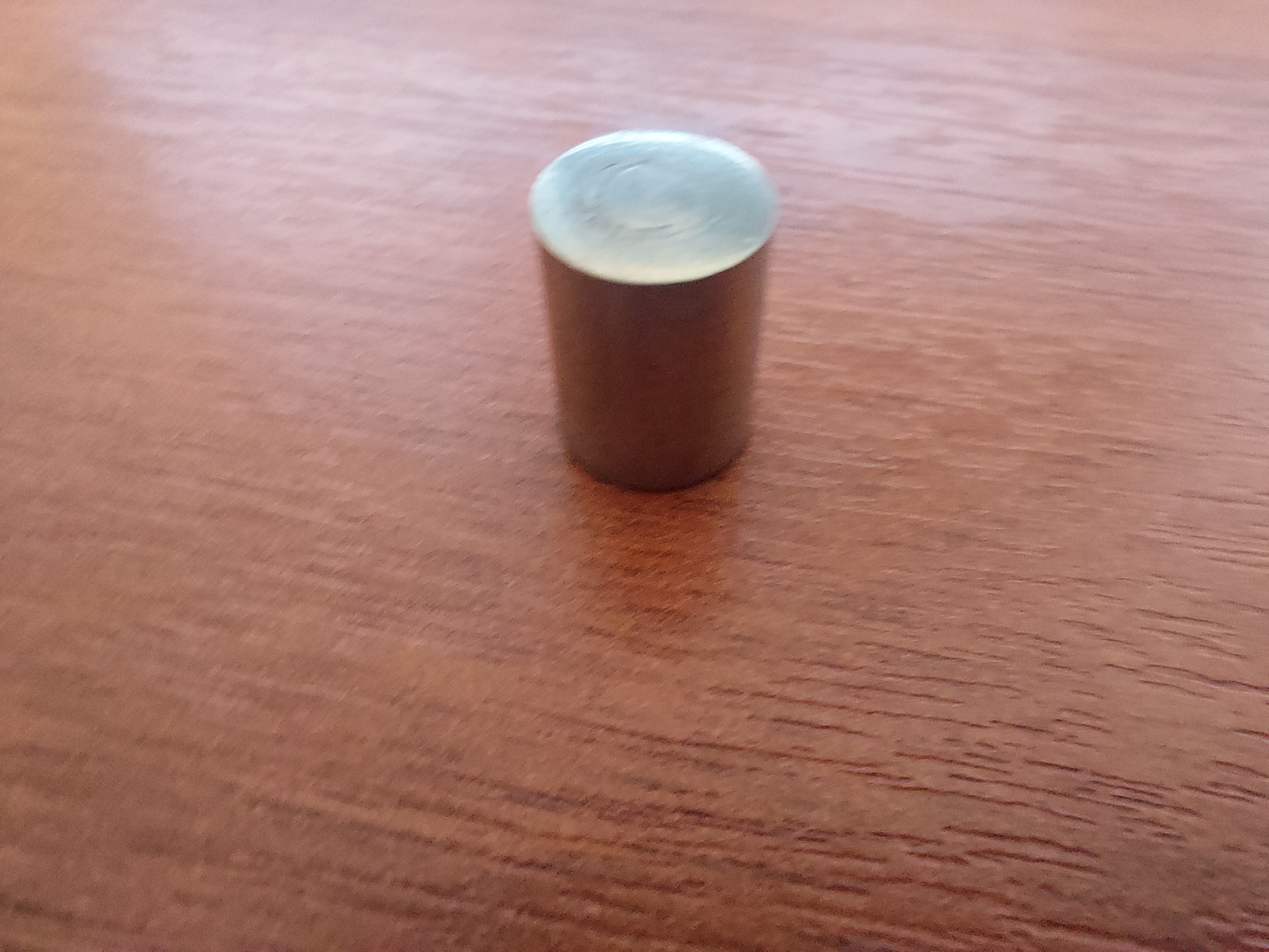tablet: (506, 112, 815, 508)
